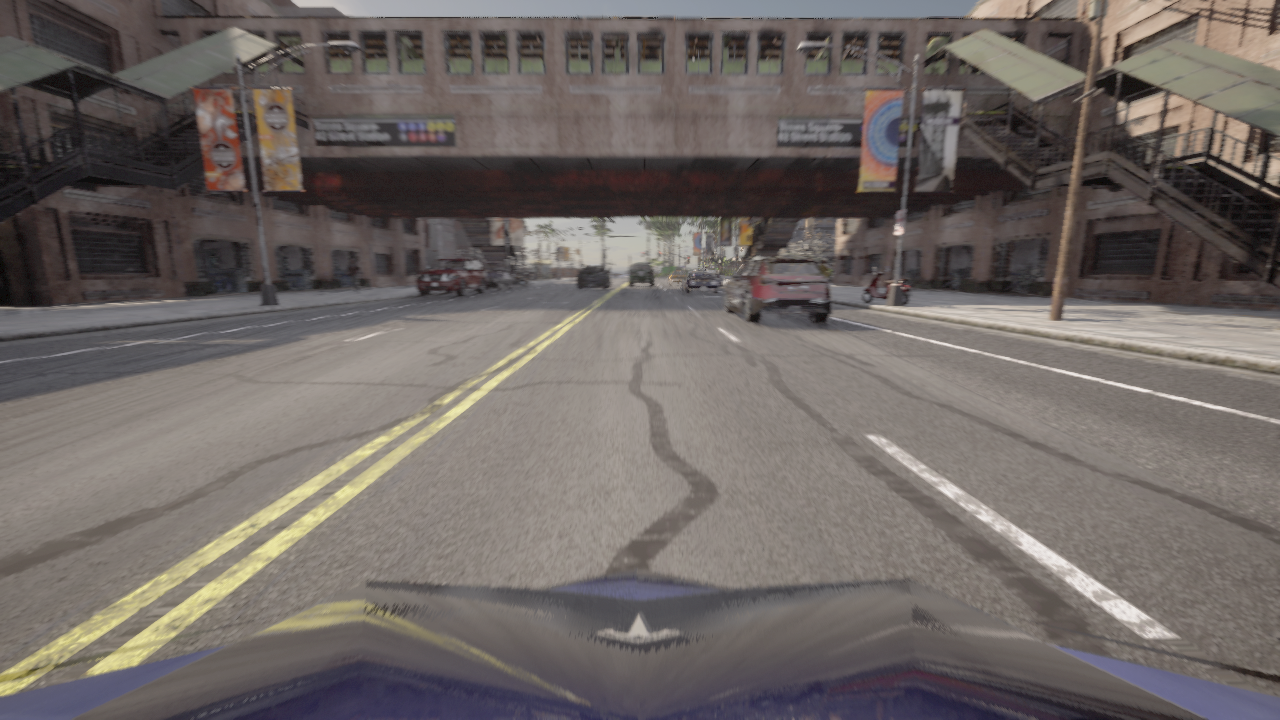cyclist: (0, 569, 1279, 719), (724, 256, 831, 323), (417, 258, 486, 296), (862, 268, 912, 304), (682, 272, 719, 294), (474, 272, 515, 291), (577, 266, 610, 288), (629, 264, 654, 286), (668, 269, 686, 285), (706, 270, 724, 286), (513, 274, 528, 287), (693, 269, 705, 271), (686, 271, 692, 273), (509, 273, 511, 274)
pedestrian: (346, 259, 361, 292), (819, 260, 827, 277)
